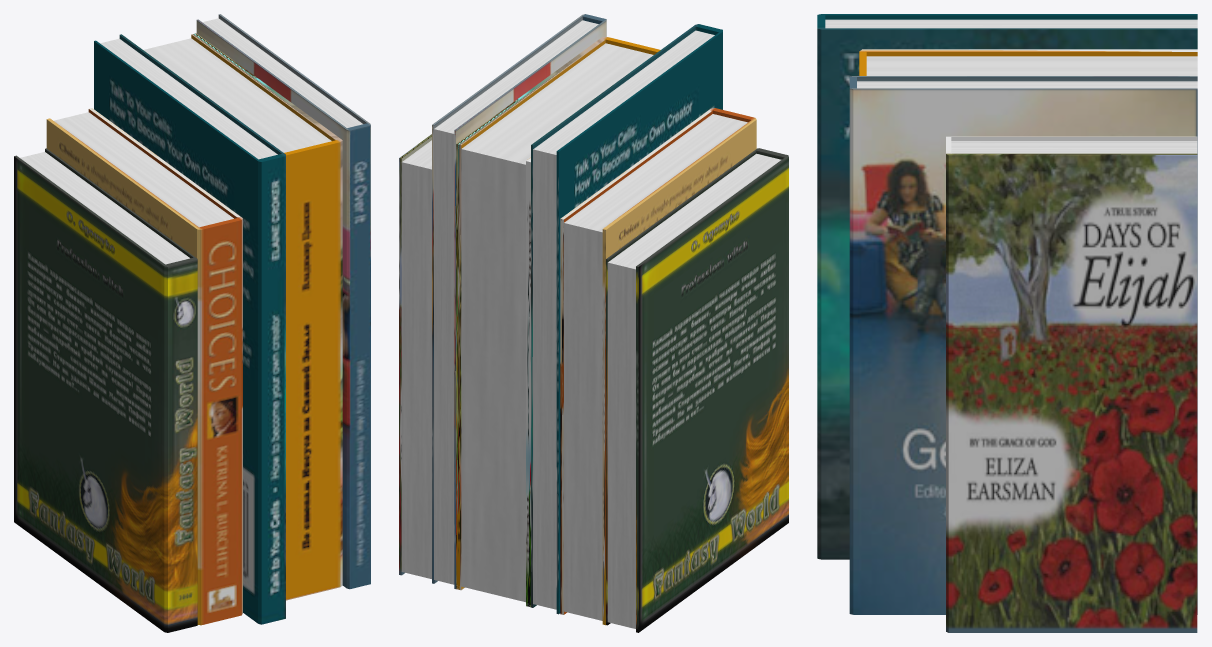
File: book06.FBX
3 renders of one model, left to right at view 1: azimuth 30°, elevation 25°; view 2: azimuth 150°, elevation 25°; view 3: azimuth 270°, elevation 25°, orthographic. The views are drawn at different scales.
Parts seen in each view (by area): view 1: book06; view 2: book06; view 3: book06.
Part boxes in pixels (box(x1,y1,x2,y2)): book06: box(14, 14, 370, 632); book06: box(399, 14, 788, 632); book06: box(817, 14, 1197, 632).
Size of the model in its own units: 16.79 by 30.96 by 20.14.
